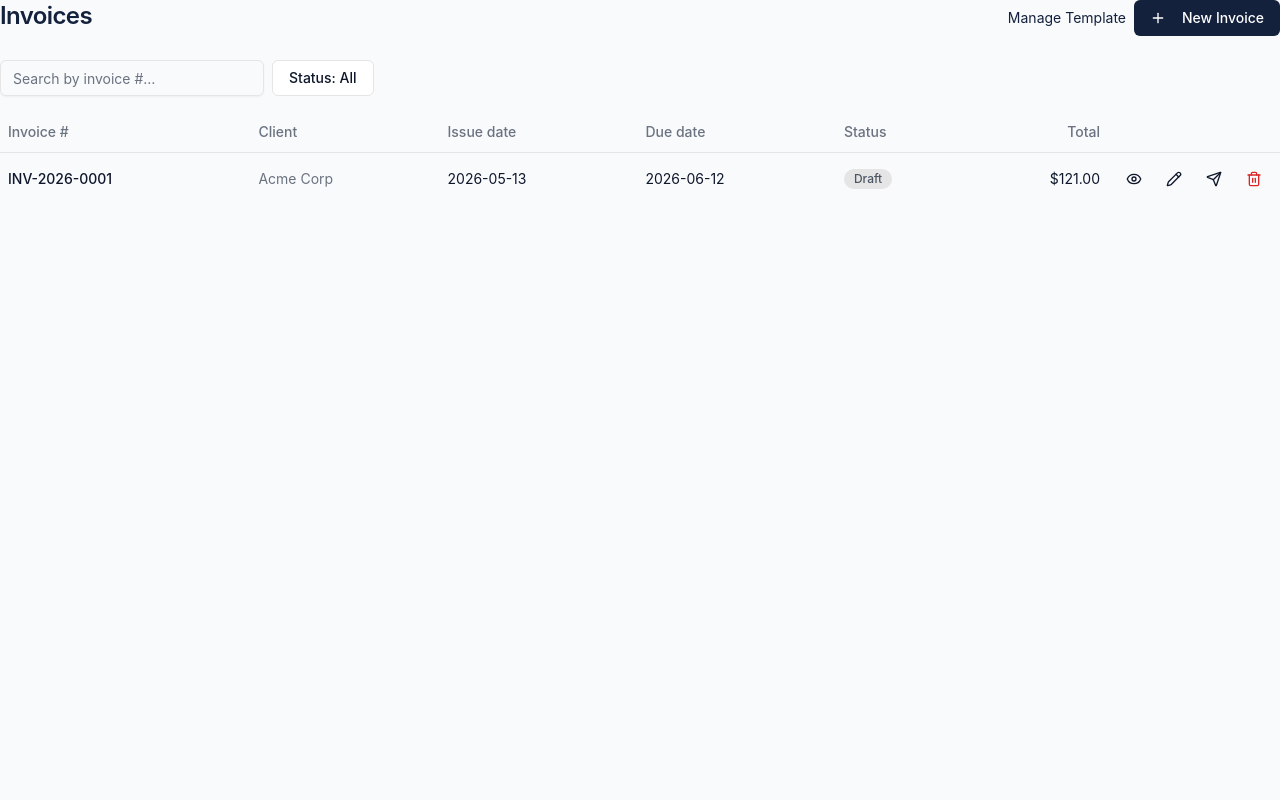
InvoicesListPage › clicking New Invoice button opens the invoice form sheet
This screenshot has width=1280, height=800.
Click the button with test id "btn-new-invoice" at (1207, 18), box [1134,0,1279,36]
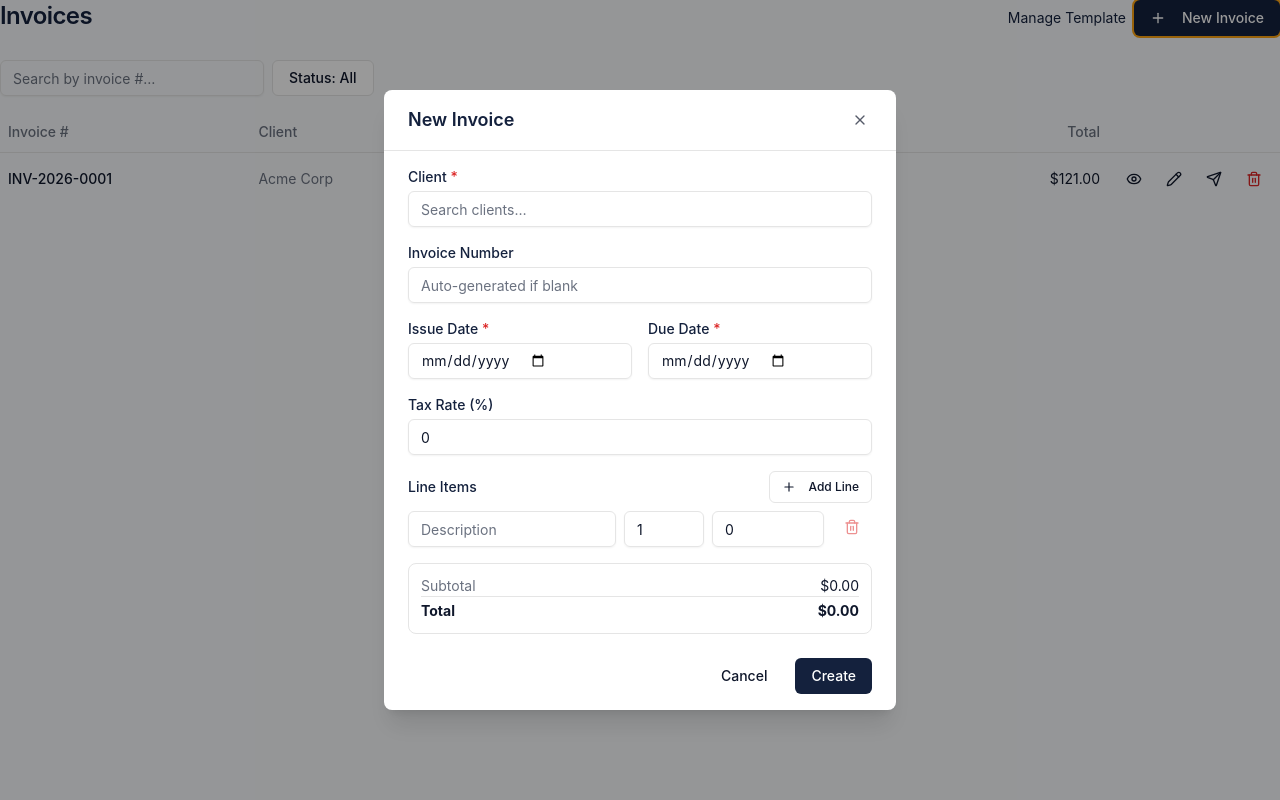
Now the dialog with test id "invoice-form-sheet" is shown, box [384,90,896,710]
